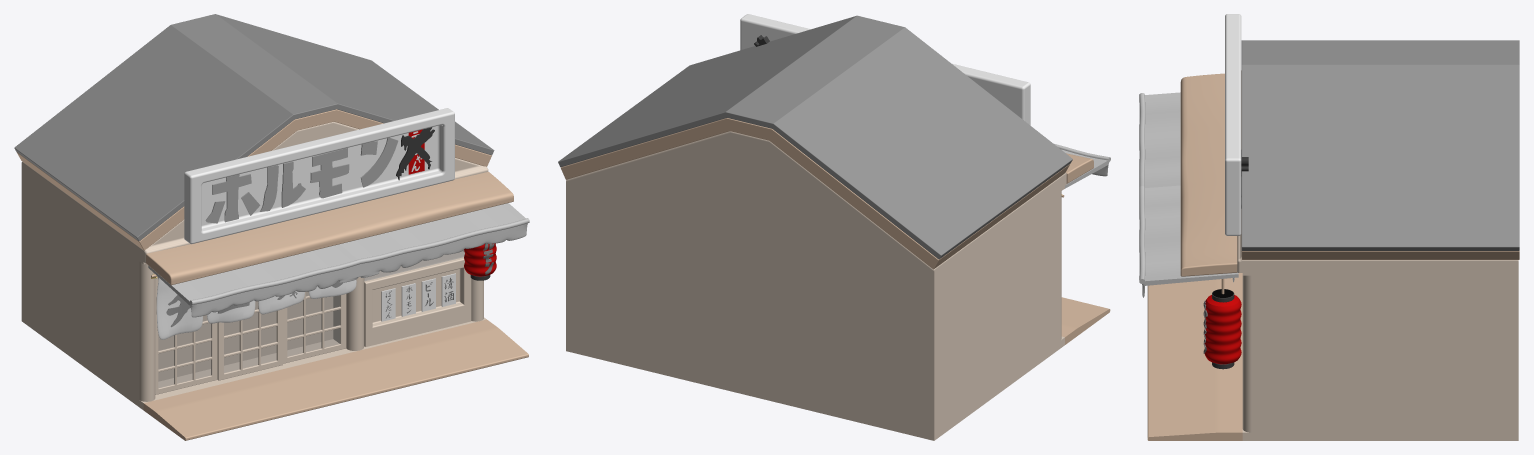
3 renders of one model, left to right at view 1: azimuth 30°, elevation 25°; view 2: azimuth 150°, elevation 25°; view 3: azimuth 270°, elevation 25°, orthographic. The views are drawn at different scales.
Parts seen in each view (by area): view 1: 037_arch_Chiechan; view 2: 037_arch_Chiechan; view 3: 037_arch_Chiechan.
Boxes of the visible parts, <box> form: 037_arch_Chiechan: <box>14,14,529,440</box>; 037_arch_Chiechan: <box>558,14,1110,440</box>; 037_arch_Chiechan: <box>1139,14,1519,440</box>.
Bounding box in the file's own units: 0.7446 × 0.517 × 0.6069.
